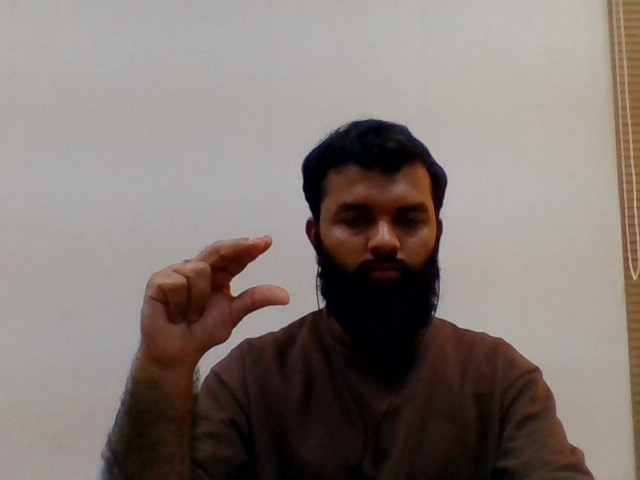No: (121, 231, 297, 364)
